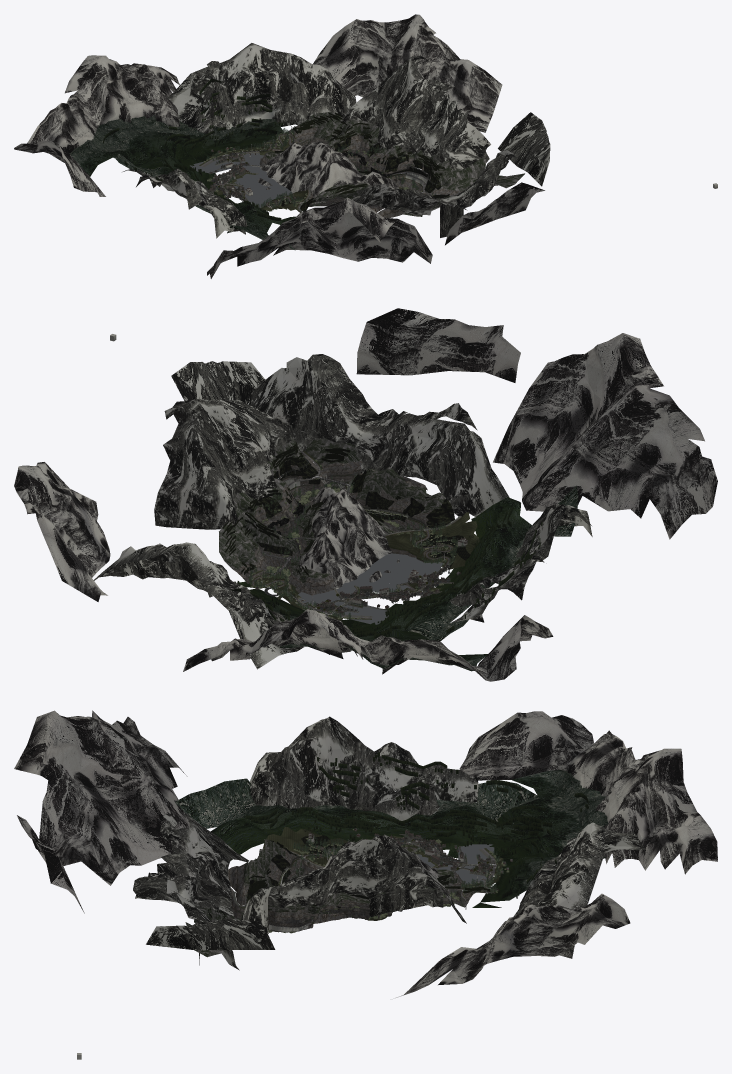
The model's file is track.glb.
The picture shows the model from 3 angles, top to bottom: view 1: azimuth 30°, elevation 25°; view 2: azimuth 150°, elevation 25°; view 3: azimuth 270°, elevation 25°; orthographic projection. The views are drawn at different scales.
Parts seen in each view (by area): view 1: backdrop_grp_005_mdl_007_sub_000, backdrop_grp_005_mdl_006_sub_000, backdrop_grp_003_mdl_003_sub_000, backdrop_grp_006_mdl_004_sub_000, backdrop_grp_003_mdl_006_sub_000, backdrop_grp_002_mdl_006_sub_000, backdrop_grp_003_mdl_001_sub_000, backdrop_grp_002_mdl_004_sub_000, backdrop_grp_002_mdl_007_sub_000, backdrop_grp_003_mdl_005_sub_000, backdrop_grp_007_mdl_009_sub_000, backdrop_grp_005_mdl_009_sub_000 (+51 smaller); view 2: backdrop_grp_005_mdl_012_sub_000, backdrop_grp_006_mdl_016_sub_000, backdrop_grp_005_mdl_008_sub_000, backdrop_grp_005_mdl_007_sub_000, backdrop_grp_005_mdl_005_sub_000, backdrop_grp_006_mdl_014_sub_000, backdrop_grp_006_mdl_015_sub_000, backdrop_grp_006_mdl_000_sub_000, backdrop_grp_005_mdl_009_sub_000, backdrop_grp_006_mdl_003_sub_000, backdrop_grp_006_mdl_010_sub_000, backdrop_grp_006_mdl_013_sub_000 (+43 smaller); view 3: backdrop_grp_006_mdl_011_sub_000, backdrop_grp_006_mdl_010_sub_000, backdrop_grp_005_mdl_007_sub_000, backdrop_grp_002_mdl_009_sub_000, backdrop_grp_002_mdl_010_sub_000, backdrop_grp_002_mdl_002_sub_000, backdrop_grp_005_mdl_008_sub_000, backdrop_grp_002_mdl_003_sub_000, backdrop_grp_006_mdl_007_sub_000, backdrop_grp_006_mdl_013_sub_000, backdrop_grp_002_mdl_007_sub_000, backdrop_grp_005_mdl_010_sub_000 (+59 smaller).
Part boxes in pixels (x1,y1,x2,y2): backdrop_grp_005_mdl_007_sub_000: (377,56,448,152); backdrop_grp_005_mdl_006_sub_000: (411,95,480,169); backdrop_grp_003_mdl_003_sub_000: (233,65,314,126); backdrop_grp_006_mdl_004_sub_000: (294,141,371,198); backdrop_grp_003_mdl_006_sub_000: (180,72,248,133); backdrop_grp_002_mdl_006_sub_000: (65,60,123,129); backdrop_grp_003_mdl_001_sub_000: (291,64,355,117); backdrop_grp_002_mdl_004_sub_000: (120,81,179,127); backdrop_grp_002_mdl_007_sub_000: (55,93,96,151); backdrop_grp_003_mdl_005_sub_000: (168,59,232,120); backdrop_grp_007_mdl_009_sub_000: (341,19,389,71); backdrop_grp_005_mdl_009_sub_000: (436,169,499,237); backdrop_grp_005_mdl_012_sub_000: (404,403,509,516); backdrop_grp_006_mdl_016_sub_000: (630,408,717,539); backdrop_grp_005_mdl_008_sub_000: (156,409,238,529); backdrop_grp_005_mdl_007_sub_000: (191,399,277,500); backdrop_grp_005_mdl_005_sub_000: (267,354,339,451); backdrop_grp_006_mdl_014_sub_000: (577,415,640,511); backdrop_grp_006_mdl_015_sub_000: (598,374,678,470); backdrop_grp_006_mdl_000_sub_000: (356,308,418,375); backdrop_grp_005_mdl_009_sub_000: (316,363,392,448); backdrop_grp_006_mdl_003_sub_000: (448,319,520,382); backdrop_grp_006_mdl_010_sub_000: (537,333,621,431); backdrop_grp_006_mdl_013_sub_000: (585,333,663,427); backdrop_grp_006_mdl_011_sub_000: (89,756,160,865); backdrop_grp_006_mdl_010_sub_000: (14,716,105,822); backdrop_grp_005_mdl_007_sub_000: (317,834,395,917); backdrop_grp_002_mdl_009_sub_000: (459,713,559,780); backdrop_grp_002_mdl_010_sub_000: (517,711,594,769); backdrop_grp_002_mdl_002_sub_000: (639,814,717,870); backdrop_grp_005_mdl_008_sub_000: (388,846,466,923); backdrop_grp_002_mdl_003_sub_000: (628,784,699,859); backdrop_grp_006_mdl_007_sub_000: (38,787,94,865); backdrop_grp_006_mdl_013_sub_000: (37,710,106,791); backdrop_grp_002_mdl_007_sub_000: (568,734,635,796); backdrop_grp_005_mdl_010_sub_000: (148,827,202,907).
Bounding box in the file's own units: 83.4 × 18.83 × 79.25.
100 materials, 99 textured.
